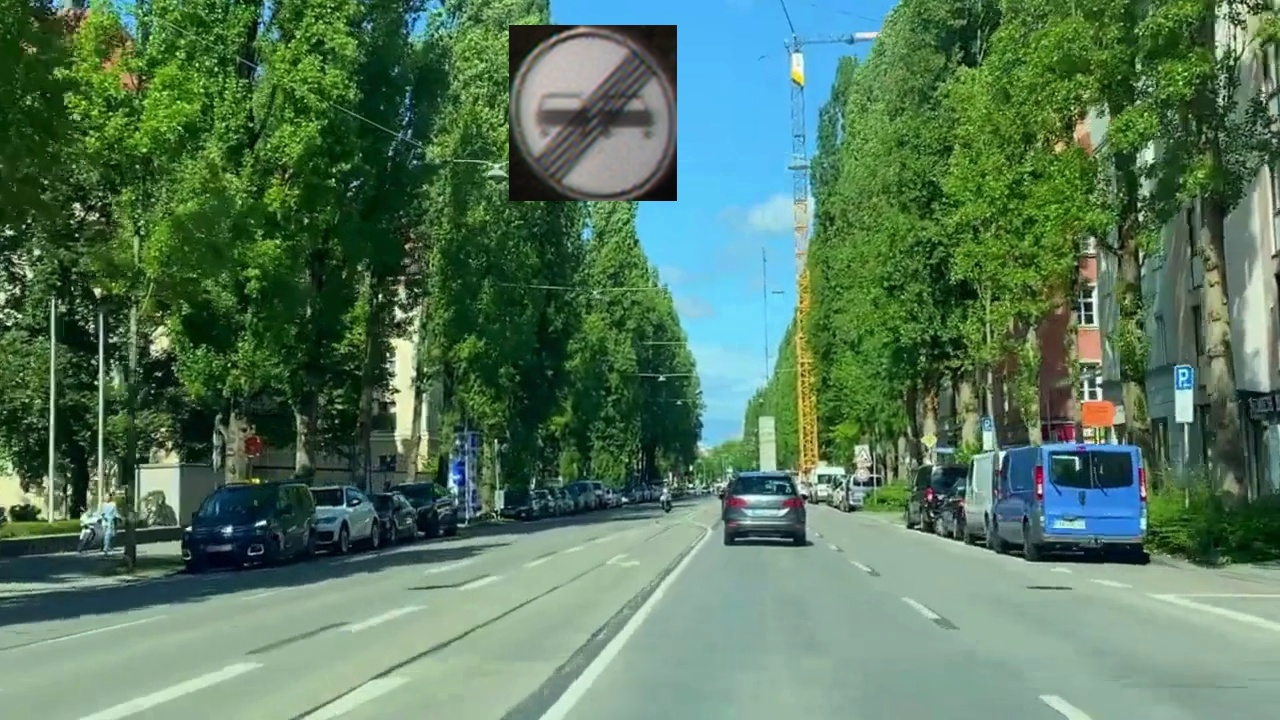End no pass: (509, 25, 677, 201)
